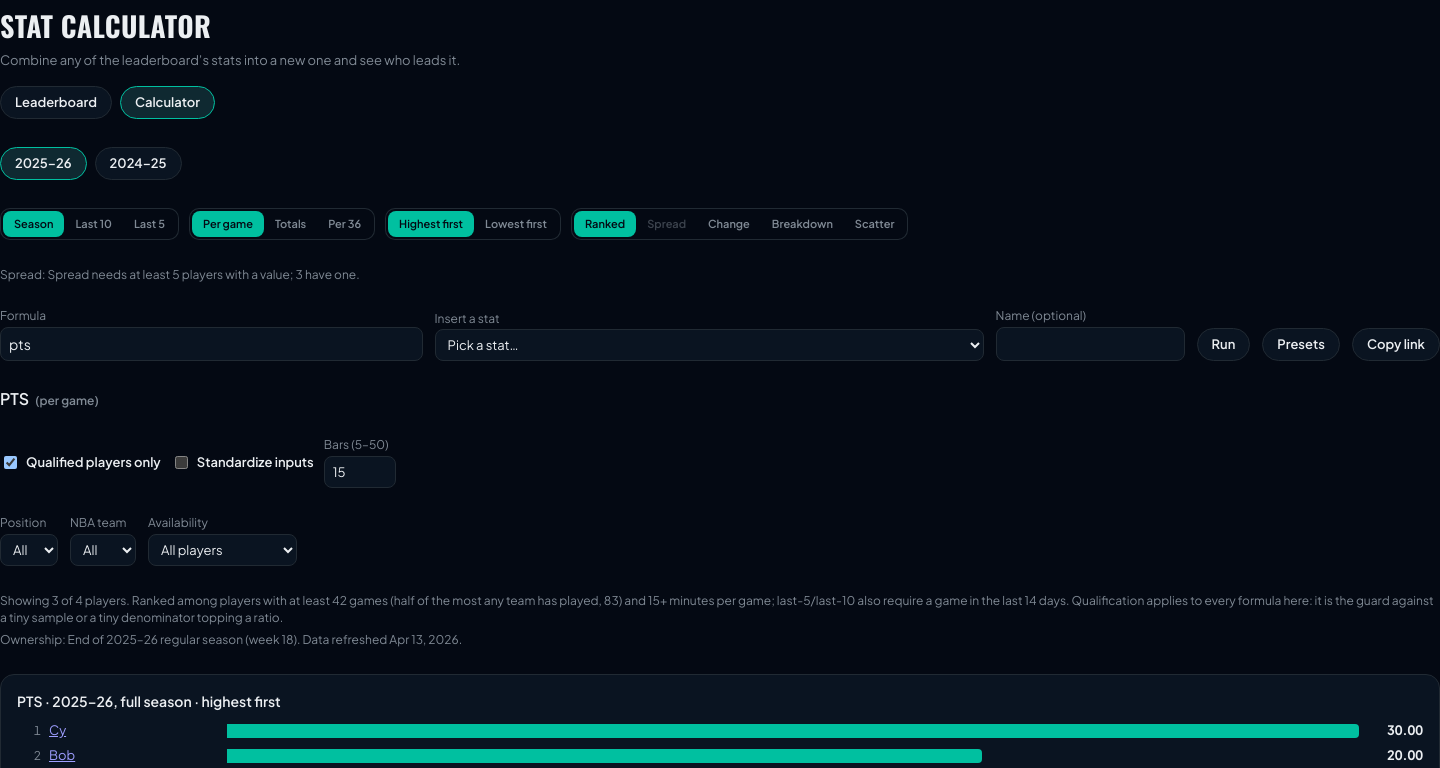
Test case: StatCalculator › switching to per 36 re-evaluates counting inputs from the held payload
Expected: the field labelled "Formula" is shown, x1=0 y1=327 x2=422 y2=361
Expected: the element named "Ranked chart" shows "30.00", x1=1387 y1=722 x2=1423 y2=738
Step 1. Click the button "Per 36" → (345,224), box x1=317 y1=211 x2=372 y2=237
(page scrolled)
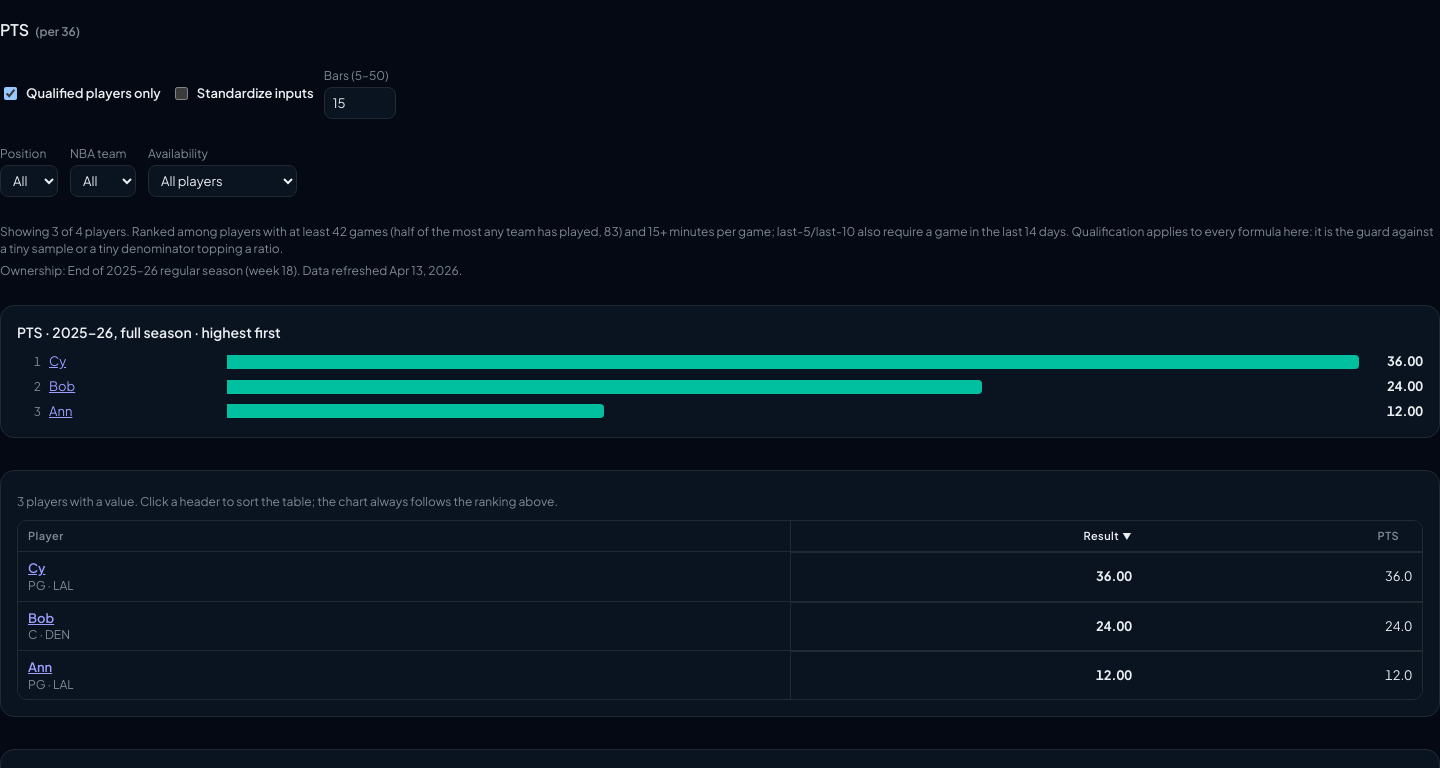
Now the element named "Ranked chart" shows "36.00", box x1=1387 y1=353 x2=1423 y2=369
